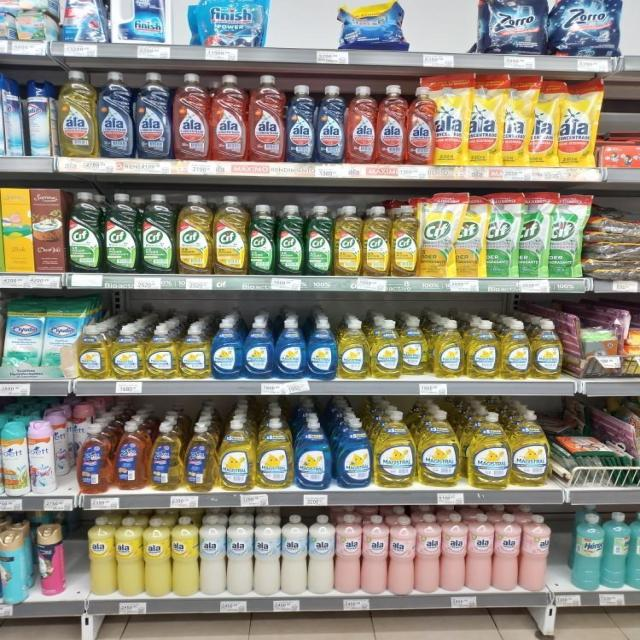ala_conc_amarillo: (58, 69, 96, 158)
ala_conc_azul: (134, 70, 171, 160), (97, 70, 133, 158), (316, 84, 344, 164), (286, 84, 314, 163)
ala_conc_rojo: (210, 74, 247, 162), (248, 74, 284, 164), (173, 72, 209, 161), (346, 86, 376, 164), (377, 85, 406, 165), (407, 85, 433, 165)
ala_crem_amarillo: (87, 516, 115, 596), (144, 516, 171, 598), (116, 516, 143, 597), (172, 515, 198, 597)
ala_crem_blanco: (308, 514, 335, 594), (281, 514, 307, 596), (200, 516, 226, 596), (254, 517, 280, 596), (227, 518, 253, 596)
ala_crem_rosado: (521, 513, 551, 592), (362, 514, 388, 594), (335, 514, 361, 594), (389, 516, 414, 596), (494, 513, 519, 592), (441, 513, 466, 592), (467, 513, 492, 591), (416, 513, 440, 594)
ala_sachet_amarillo: (558, 77, 598, 166), (468, 74, 501, 165), (434, 74, 466, 165), (502, 76, 530, 166), (530, 77, 558, 166)
cif_conc_bot_amarilla: (176, 193, 212, 275), (214, 195, 247, 275), (391, 204, 418, 277), (363, 205, 390, 277), (334, 205, 361, 276)
cif_conc_botella_verde: (104, 192, 139, 274), (68, 191, 102, 273), (141, 193, 175, 275), (248, 203, 276, 276), (305, 205, 333, 276), (277, 203, 304, 276)
cif_conc_sachet_amarillo: (419, 192, 454, 278), (455, 192, 485, 278)
cif_conc_sachet_verde: (549, 192, 583, 278), (486, 191, 518, 278), (518, 192, 548, 278)
heroe: (571, 512, 602, 591), (629, 512, 640, 590)
magistral_con_amarillo: (418, 409, 461, 487), (466, 411, 509, 489), (374, 410, 415, 488), (511, 410, 550, 487), (218, 418, 254, 491), (257, 418, 293, 490), (466, 318, 499, 379), (432, 318, 465, 378), (532, 320, 563, 380), (370, 318, 400, 379), (338, 319, 368, 380), (501, 320, 531, 380), (145, 324, 177, 380), (111, 324, 143, 380), (401, 317, 429, 376), (79, 325, 109, 380), (179, 324, 209, 379)
magistral_con_azul: (294, 416, 332, 490), (335, 419, 372, 489), (211, 318, 242, 380), (306, 318, 336, 380), (275, 318, 305, 380), (244, 317, 274, 379)
zorro: (77, 423, 112, 494), (114, 421, 147, 491), (149, 422, 182, 492), (184, 422, 217, 492)
